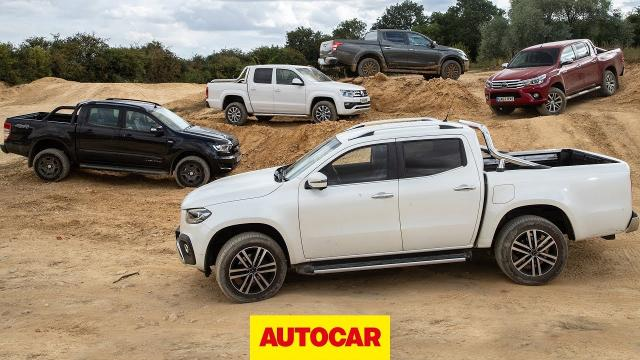pickup-truck: (176, 120, 634, 302), (2, 97, 241, 189), (486, 37, 627, 120), (206, 64, 372, 124), (317, 27, 471, 83)
